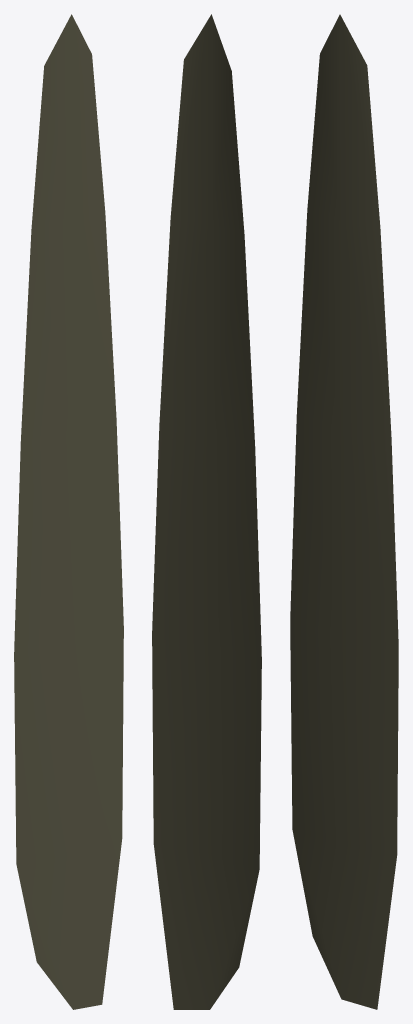
The model's file is finch_feather_flight_primary_004.obj.
The picture shows the model from 3 angles, left to right: view 1: azimuth 30°, elevation 25°; view 2: azimuth 150°, elevation 25°; view 3: azimuth 330°, elevation 25°; orthographic projection.
Visible parts, largest first — view 1: feather_flight_primary_004; view 2: feather_flight_primary_004; view 3: feather_flight_primary_004.
Boxes of the visible parts, x1,y1,x2,y2 form: feather_flight_primary_004: (14,14,123,1009); feather_flight_primary_004: (152,14,261,1009); feather_flight_primary_004: (290,14,398,1009).
Size of the model in its own units: 0.00592 by 0.0516 by 0.000339.
